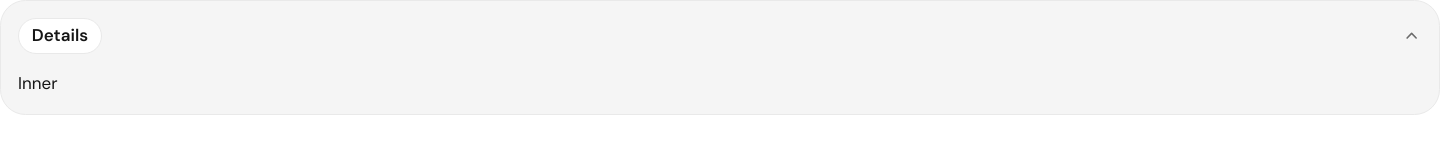
Test case: CollapsibleSection › collapses on click and hides children
The width and height of the screenshot is (1440, 160).
Click the button with test id "section-details": (60, 36) [18,18,1392,54]
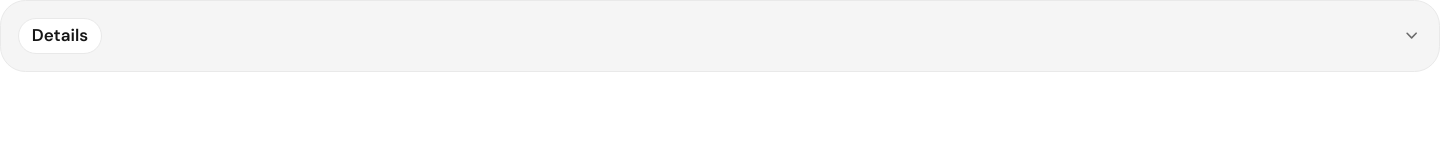
Result: the text "Inner" is gone
